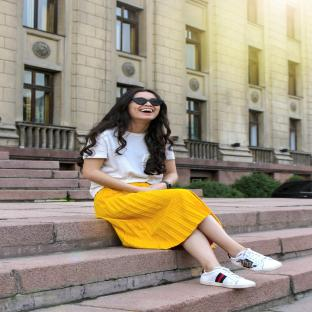Human: (78, 89, 282, 289)
